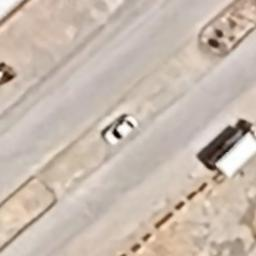sedan: (102, 112, 139, 147)
truck: (208, 123, 256, 180)
